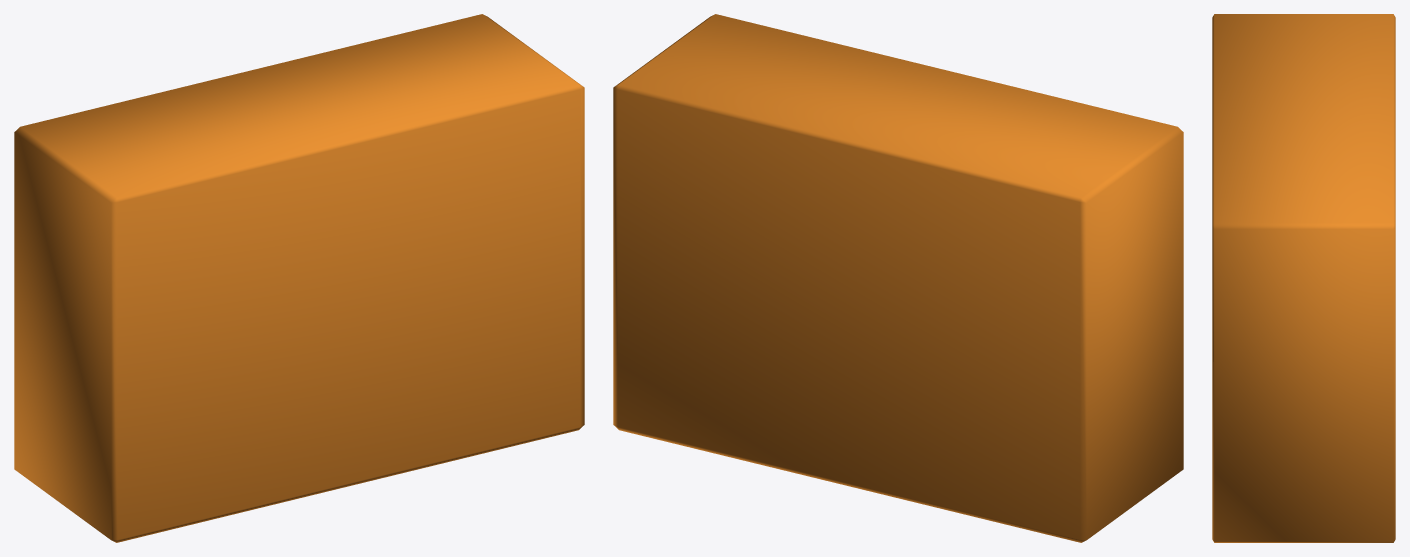
Rendered from SaponettaArancia.fbx.
The picture shows the model from 3 angles, left to right: view 1: azimuth 30°, elevation 25°; view 2: azimuth 150°, elevation 25°; view 3: azimuth 270°, elevation 25°; orthographic projection. The views are drawn at different scales.
Visible parts, largest first — view 1: Saponetta.001; view 2: Saponetta.001; view 3: Saponetta.001.
Boxes of the visible parts, x1,y1,x2,y2 form: Saponetta.001: (14,14,584,542); Saponetta.001: (613,14,1183,542); Saponetta.001: (1212,14,1395,542).
Bounding box in the file's own units: 468 × 326 × 169.
